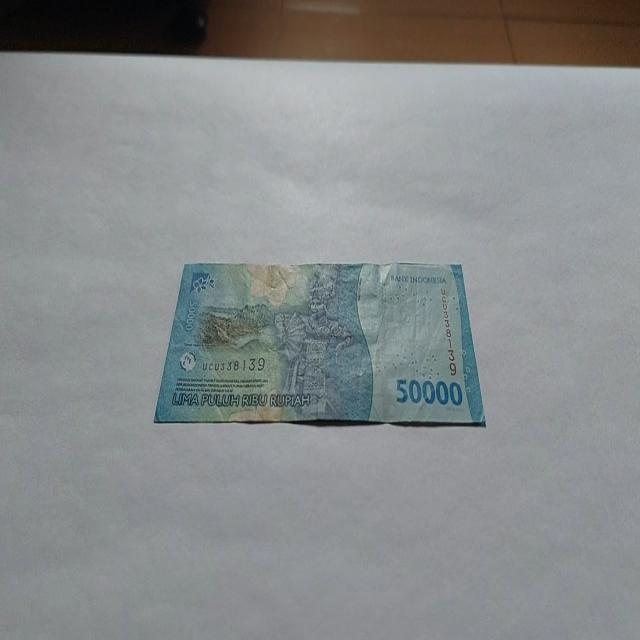lima puluh ribu rupiah: (152, 258, 486, 428)
